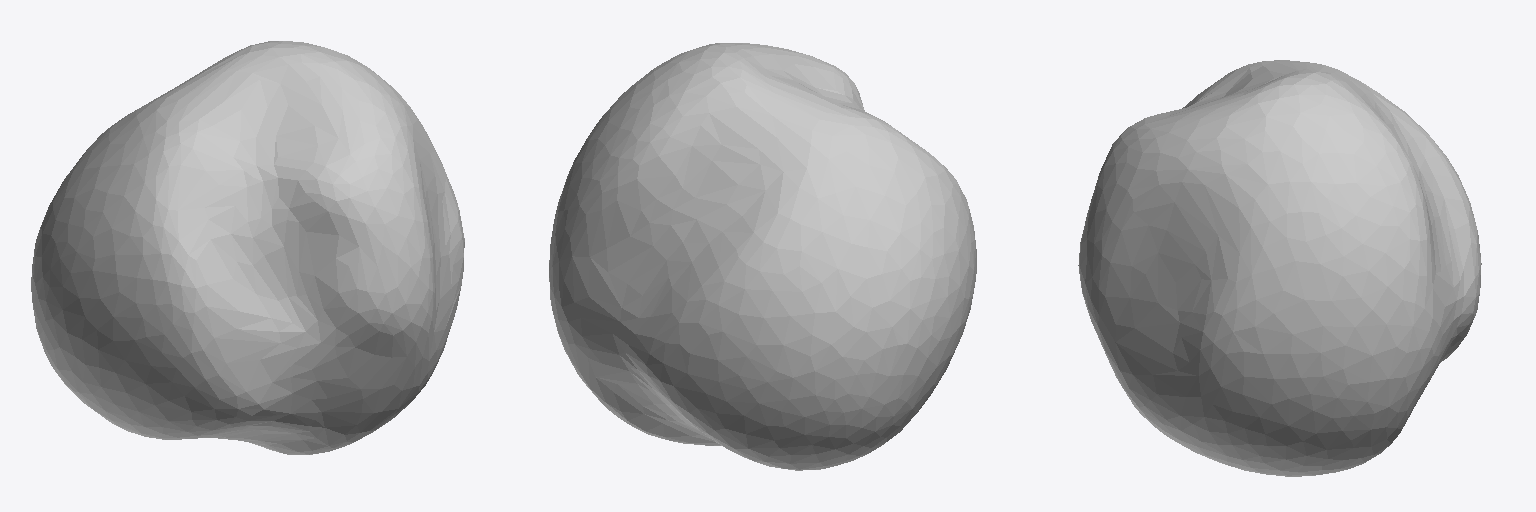
Rendered from moon_0.obj.
3 renders of one model, left to right at view 1: azimuth 30°, elevation 25°; view 2: azimuth 150°, elevation 25°; view 3: azimuth 270°, elevation 25°, orthographic.
Bounding box in the file's own units: 4.05 × 3.96 × 3.76.